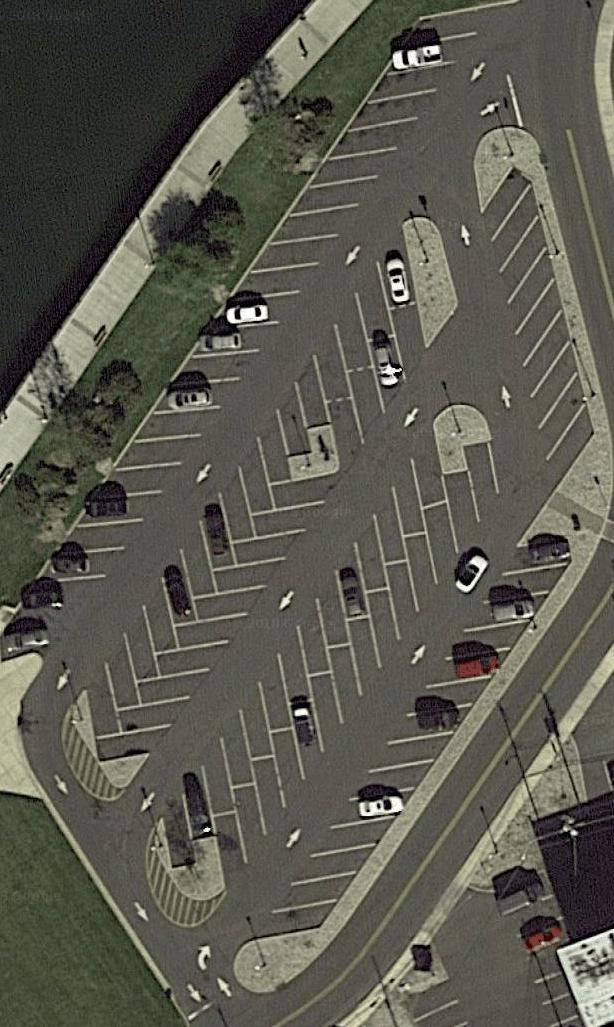parkingspot: (0, 0, 520, 668), (84, 216, 420, 740), (210, 438, 502, 900), (160, 418, 450, 872), (255, 538, 575, 941), (91, 468, 343, 766), (478, 165, 598, 497), (323, 298, 431, 481), (493, 870, 585, 1026), (399, 974, 476, 1027)
